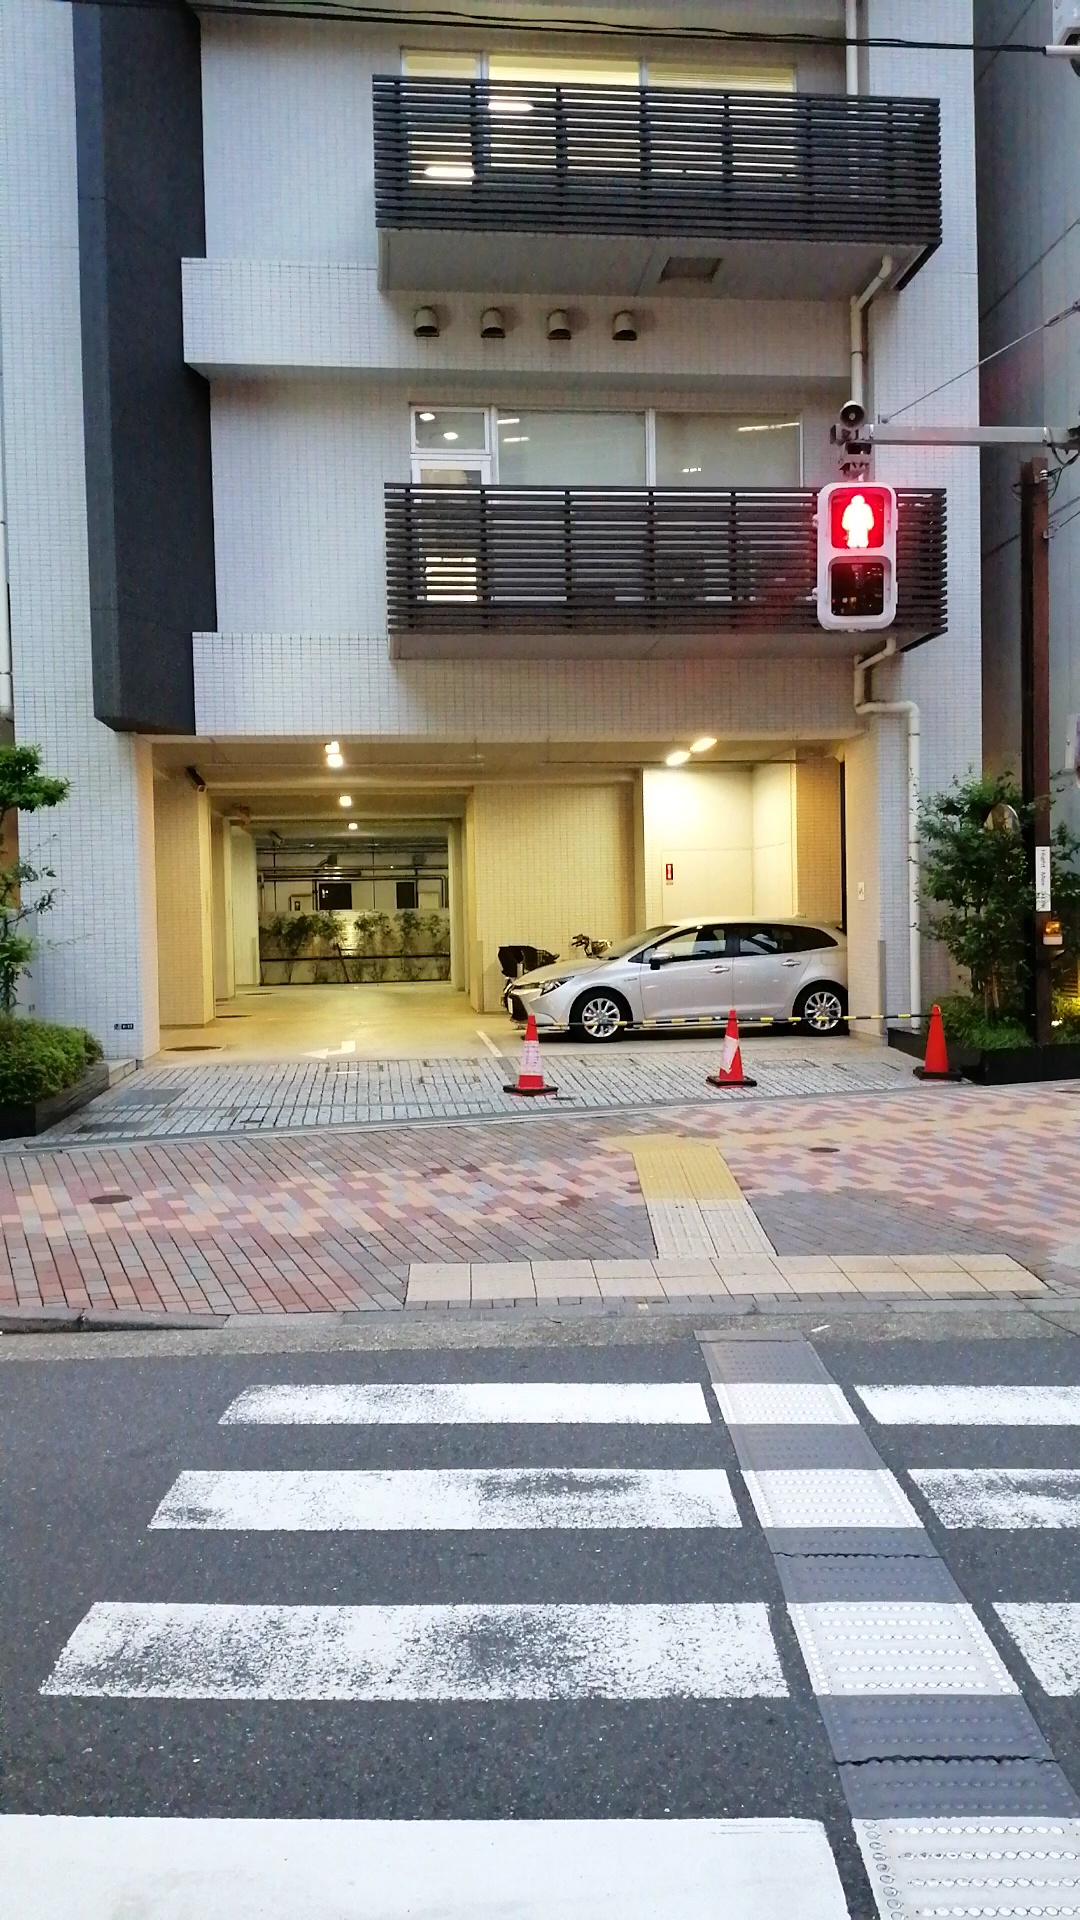red: (816, 483, 895, 628)
